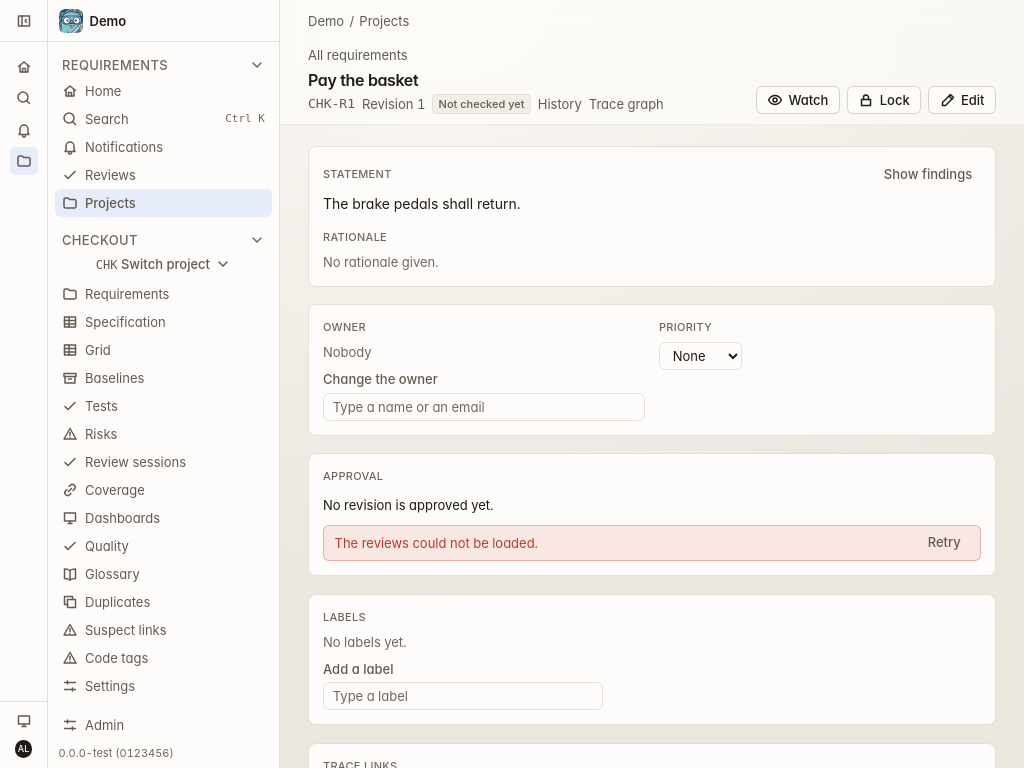
it: terms while a requirement is written › are marked in the statement editor as the draft is checked, with a way to link words to a term
This screenshot has width=1024, height=768.
Click the button "Edit" at (962, 100), box [928, 86, 996, 114]
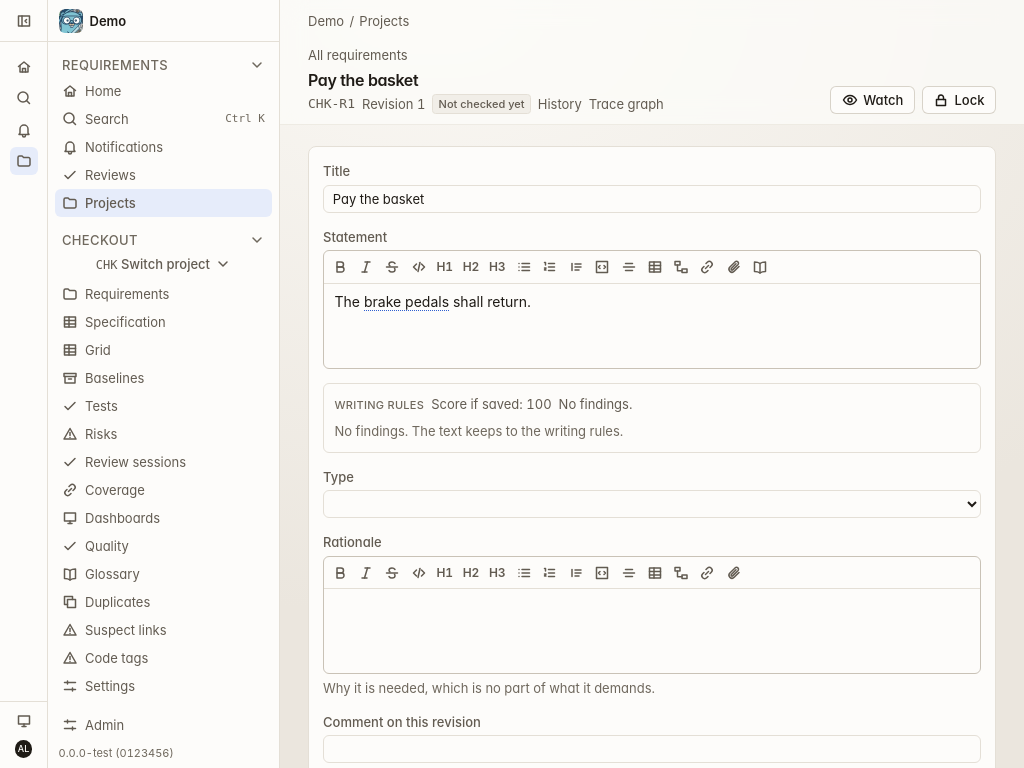
Check: the text box labelled "brake pedals" is shown, box [364, 293, 449, 311]
Check: the button named "Link to term" is shown, box [748, 255, 772, 279]
